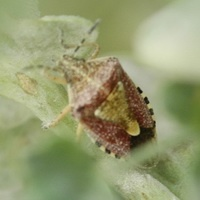insect: (16, 16, 155, 157)
